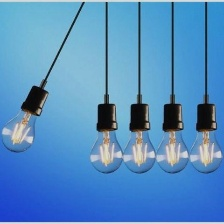light_bulb: (0, 82, 52, 154), (86, 99, 126, 176), (152, 100, 191, 176), (120, 100, 158, 175), (185, 102, 223, 175)
